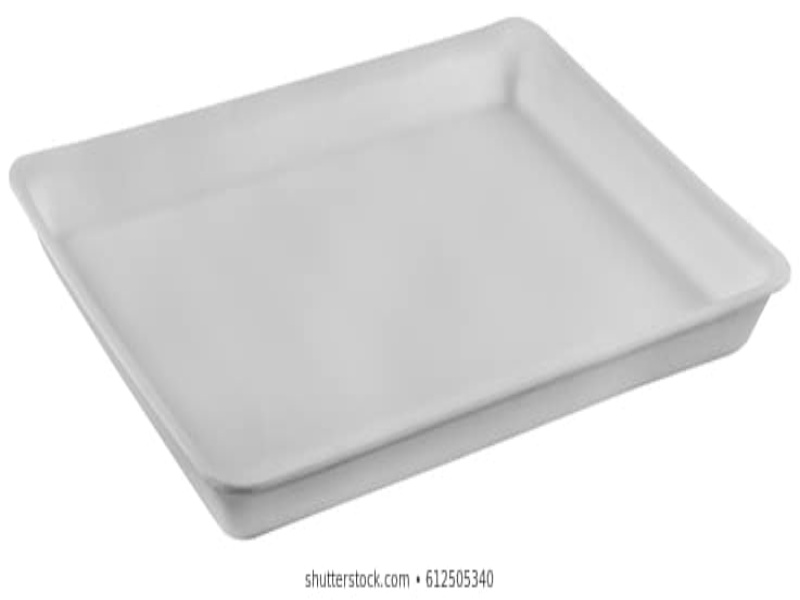plastic-tray: (4, 11, 792, 548)
